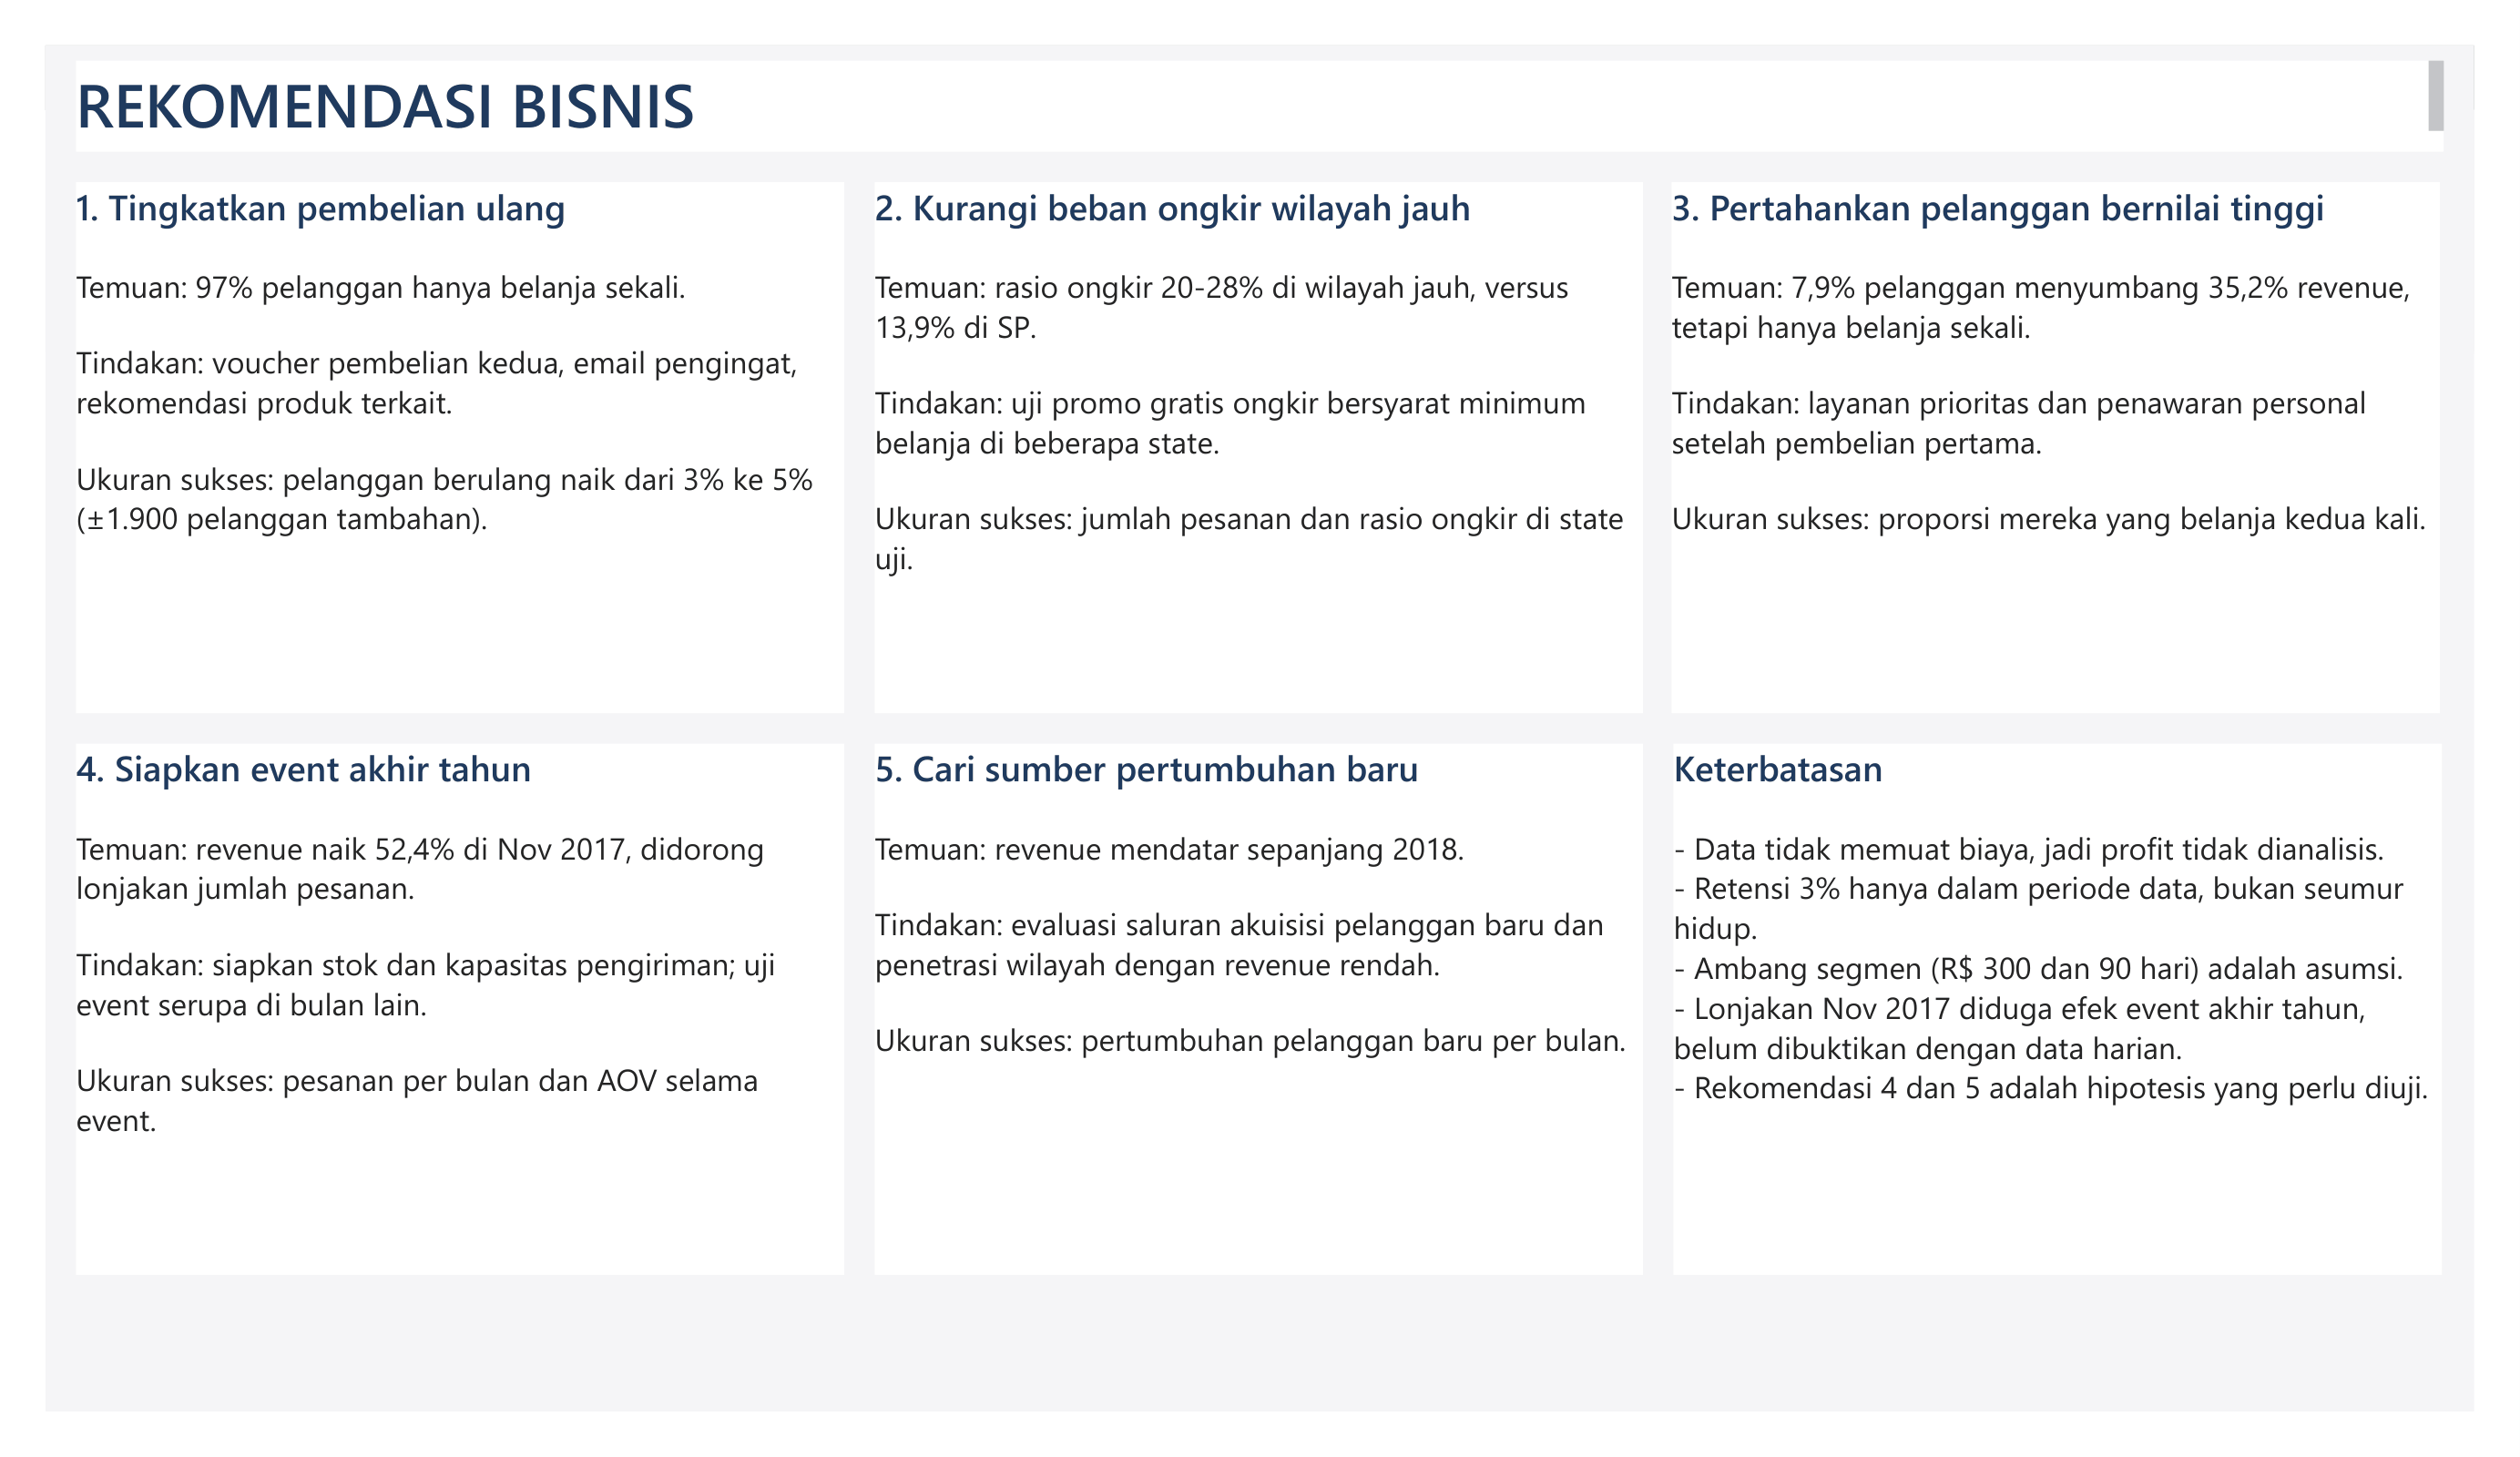

The dashboard page shown, as its layout file describes it:
{"tool":"powerbi","page":{"name":"Rekomendasi","canvas":[1280,720],"ordinal":1},"visuals":[{"type":"textbox","box":[16,8,1248,48],"z":0},{"type":"textbox","box":[858,368,405,280],"z":1000},{"type":"textbox","box":[16,72,405,280],"z":2000},{"type":"textbox","box":[437,72,405,280],"z":3000},{"type":"textbox","box":[857,72,405,280],"z":4000},{"type":"textbox","box":[16,368,405,280],"z":5000},{"type":"textbox","box":[437,368,405,280],"z":6000}]}

Visuals, with their boxes on the page's 1280x720 design canvas (x1, y1, x2, y2). These are canvas units, not pixel positions in the 2520x1457 screenshot, which may show the page scaled, cropped or inside an application window:
textbox: region(16, 8, 1264, 56)
textbox: region(858, 368, 1263, 648)
textbox: region(16, 72, 421, 352)
textbox: region(437, 72, 842, 352)
textbox: region(857, 72, 1262, 352)
textbox: region(16, 368, 421, 648)
textbox: region(437, 368, 842, 648)
